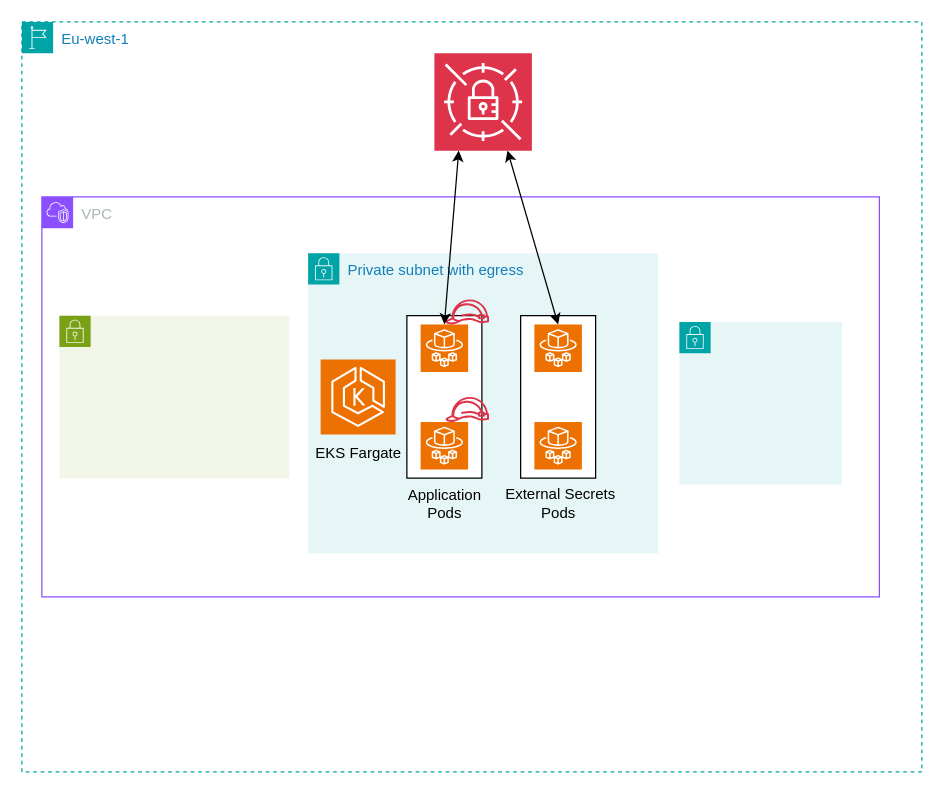
The diagram is 944 pixels wide and 794 high, and some of its shapes have lost their labels. Here are the shapes that lost their labels. From the top down, the centre of each, then its label:
the point at 173,396: Public subnet
the point at 760,402: Private subnet
